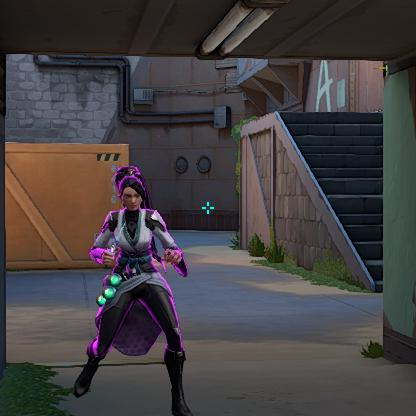enemyBody: (114, 213, 150, 264)
enemyHead: (122, 183, 142, 208)
